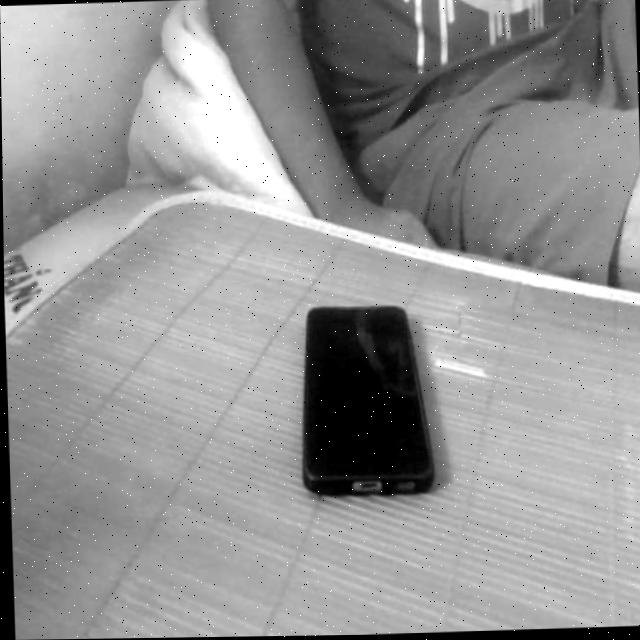phone: (278, 277, 455, 525)
